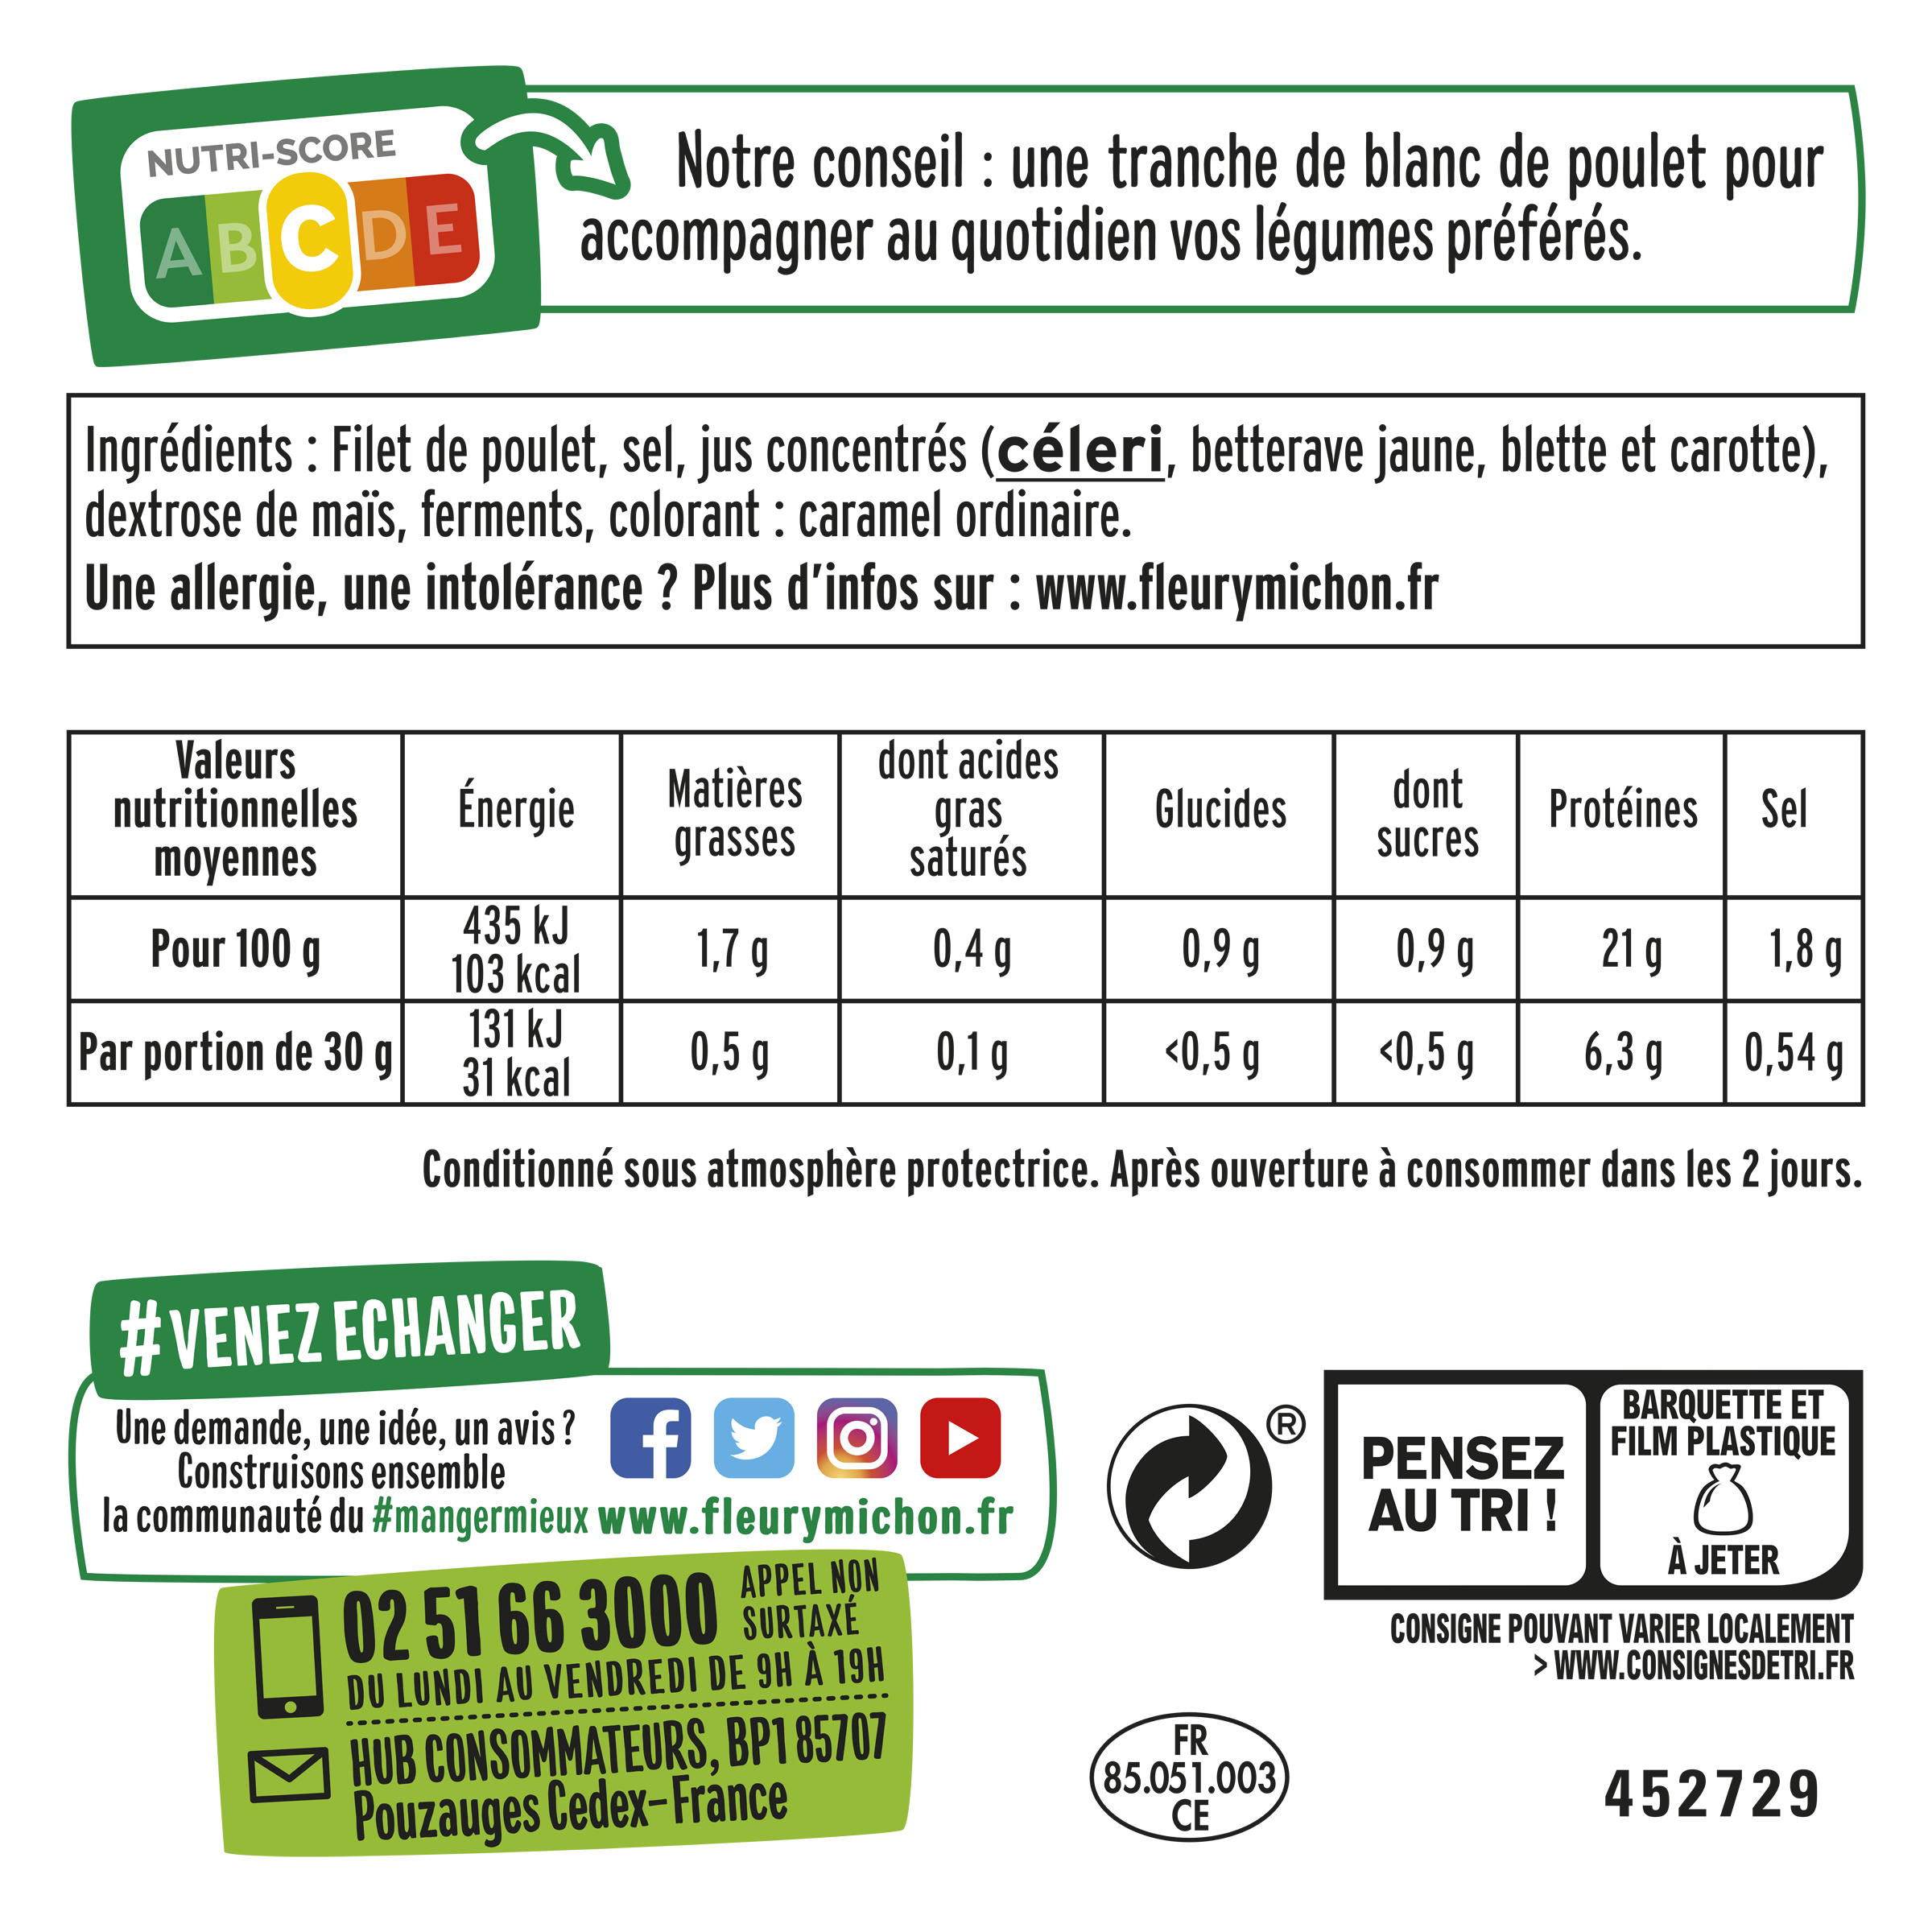column: (88, 750, 389, 1081), (867, 738, 1063, 1090), (1143, 738, 1295, 1090), (1555, 740, 1698, 1086), (663, 750, 800, 1090), (456, 743, 586, 1092), (1373, 743, 1483, 1083), (1748, 734, 1847, 1083)
table: (58, 713, 1874, 1118)
